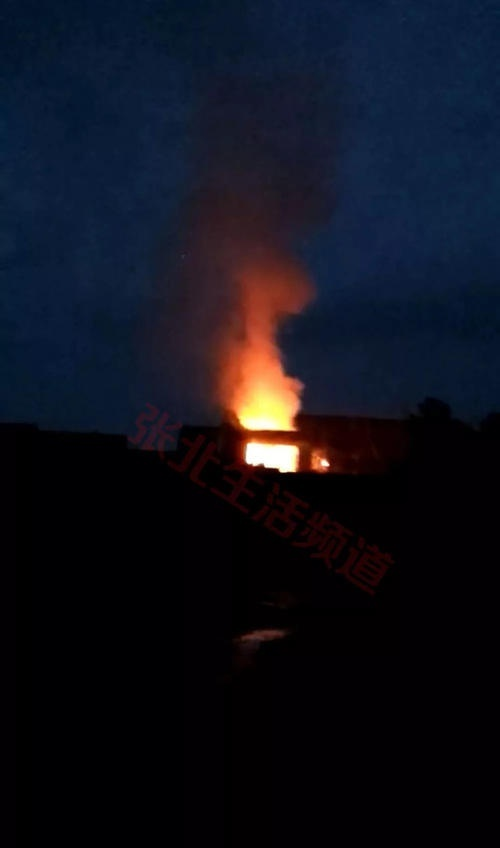fire: (232, 374, 306, 471)
